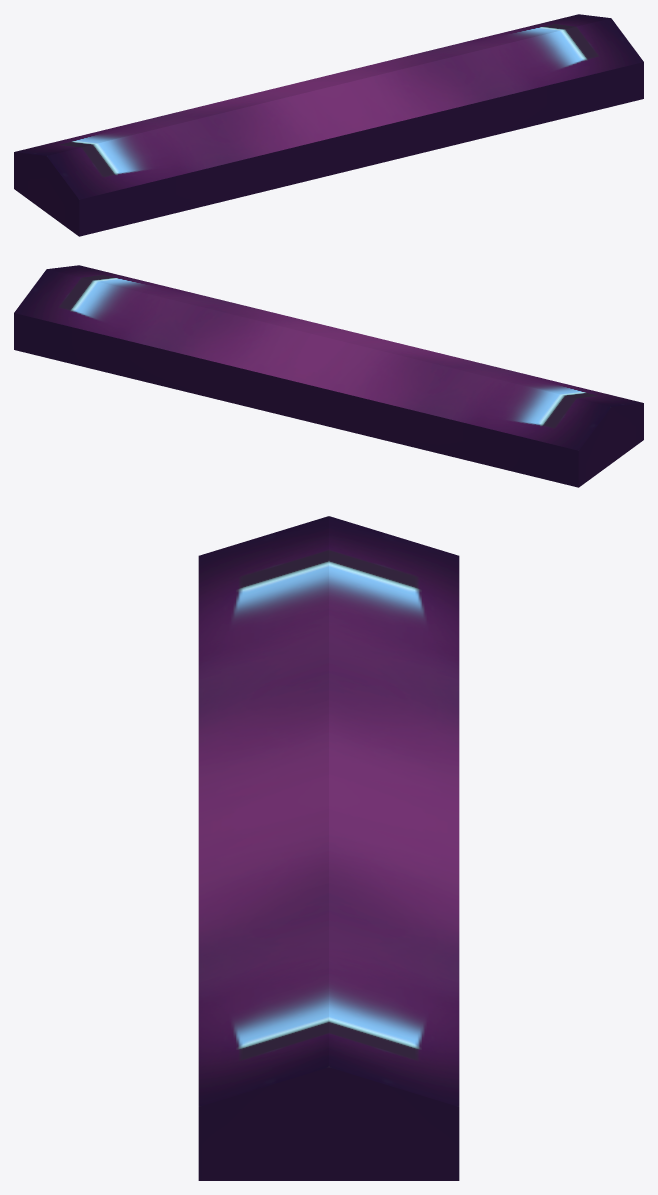
File: urban_floor_teeth.gltf
3 views of the same model, one above another, from view 1: azimuth 30°, elevation 25°; view 2: azimuth 150°, elevation 25°; view 3: azimuth 270°, elevation 25° (orthographic). The views are drawn at different scales.
Visible parts, largest first — view 1: urban_floor_teeth_glb; view 2: urban_floor_teeth_glb; view 3: urban_floor_teeth_glb.
Part boxes in pixels (x1,y1,x2,y2): urban_floor_teeth_glb: (14, 14, 643, 236); urban_floor_teeth_glb: (14, 265, 643, 487); urban_floor_teeth_glb: (198, 516, 459, 1180).
Size of what is drawn, in the model's own units: 4 by 0.3849 by 0.8.
Materials: 1 (1 with a texture image).
